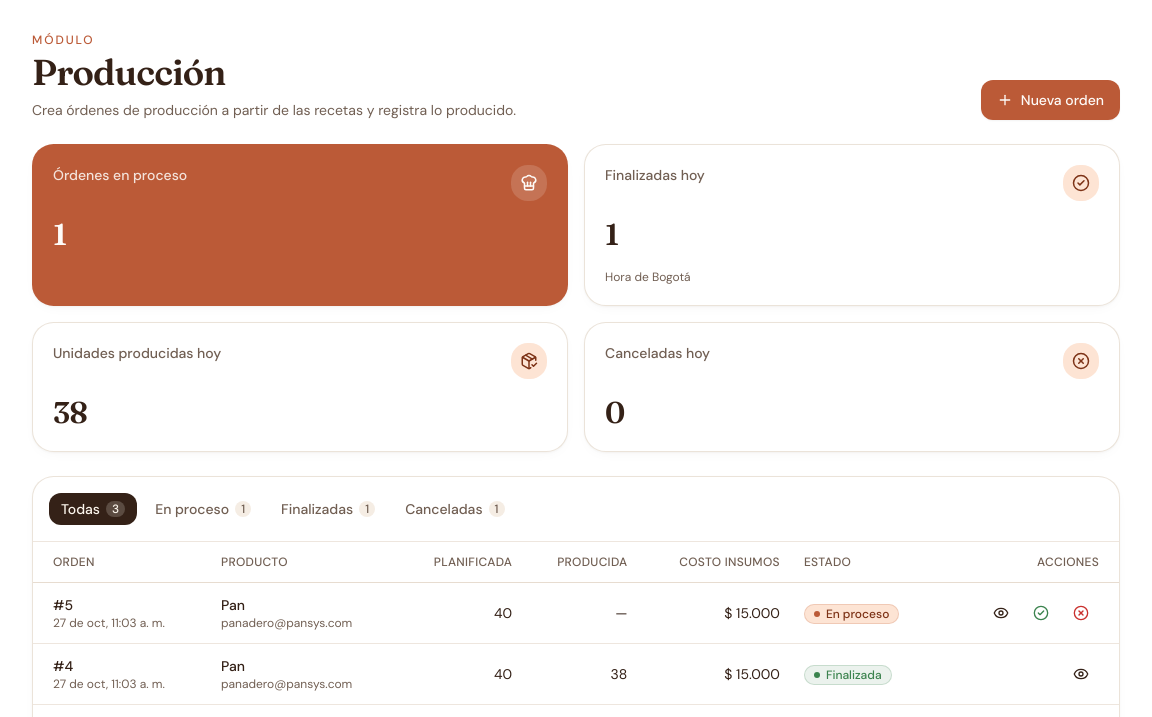
Scenario: Listado e indicadores › el detalle muestra la trazabilidad de los insumos
Expected: the row "#5" is shown, top-left (33, 582), bottom-right (1119, 643)
Click the button named "Ver detalle de la orden #5" at x=1001, y=612, box top-left (983, 594), bottom-right (1019, 630)
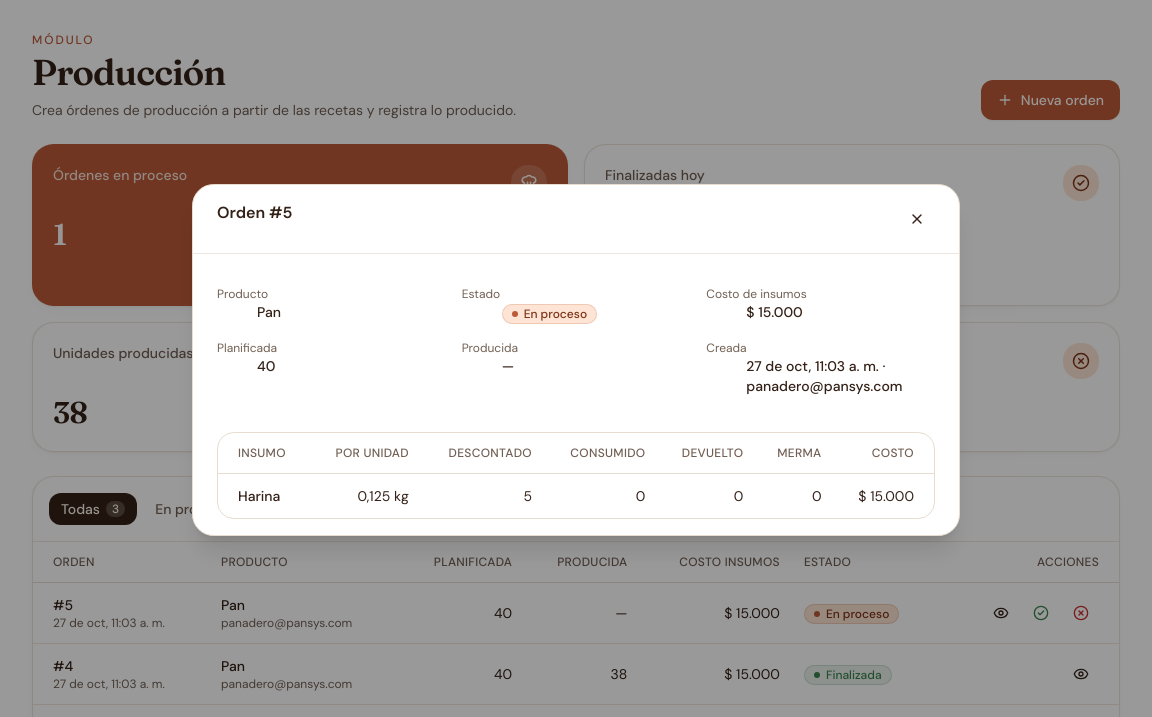
Expected: the row "Harina 0,125 kg 5 0 0 0 $ 15.000" is shown, top-left (218, 473), bottom-right (934, 518)
